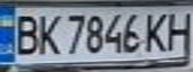4: (103, 10, 127, 54)
6: (121, 10, 145, 54)
7: (63, 11, 87, 55)
8: (84, 11, 106, 55)
B: (9, 11, 42, 56)
H: (163, 8, 193, 52)
K: (33, 10, 63, 56), (142, 9, 172, 54)
